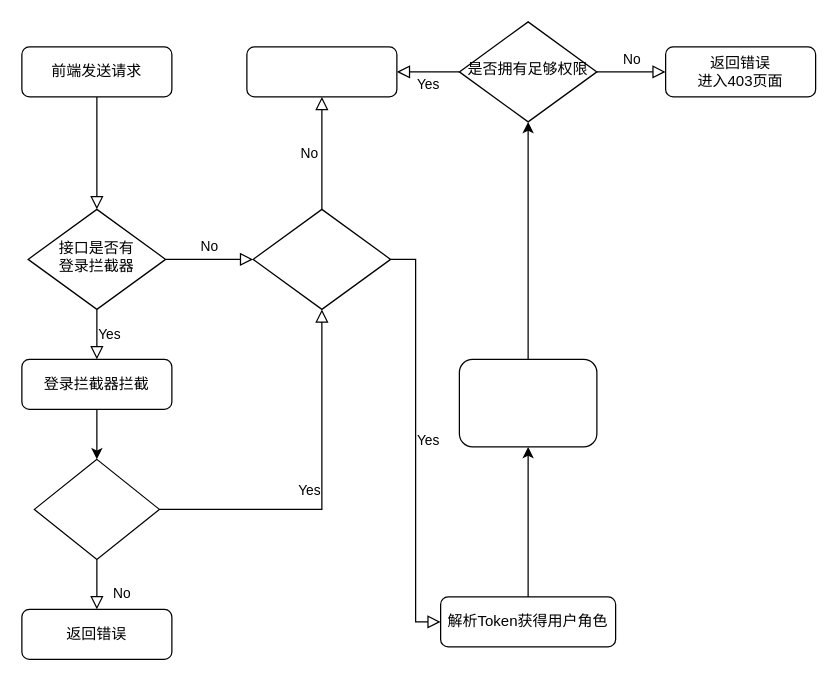
Some shapes in this 838 by 681 pixel diagram are drawn without their labels. Here are the shapes that lost their labels. From the top down, the box of each, then its label:
(246, 46, 397, 97): 进入业务接口
(252, 208, 391, 309): 接口是否有 权限拦截器
(458, 358, 597, 447): 比对接口所需权限与用户拥有权限
(33, 458, 159, 559): Token是否正常解析
